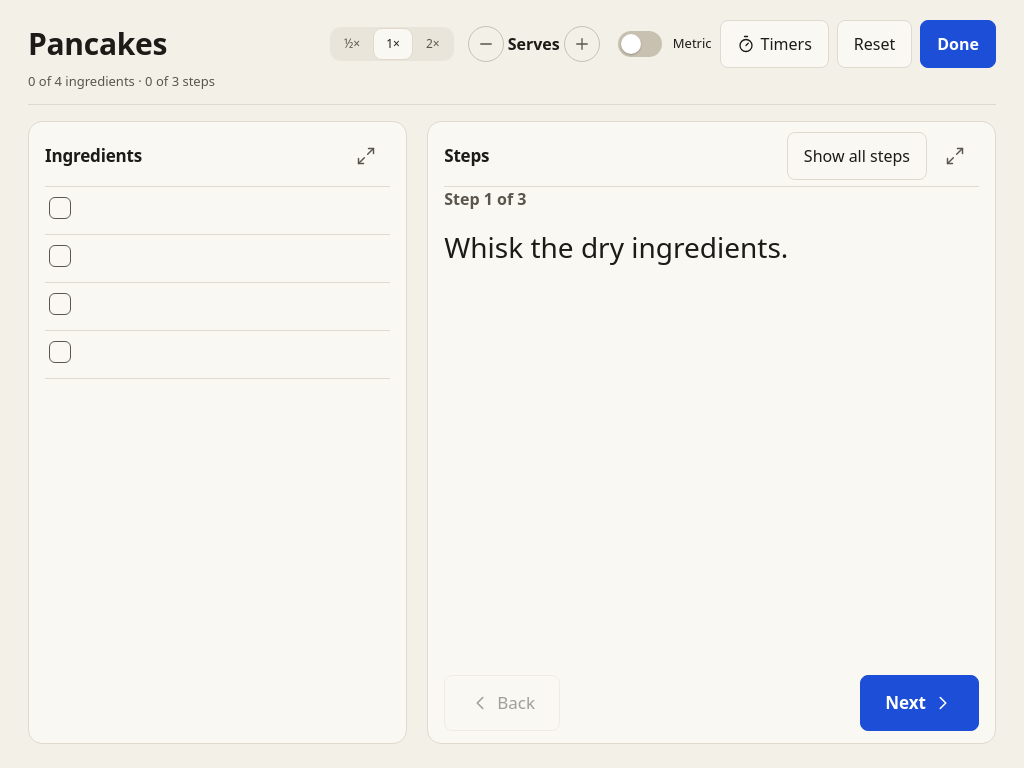
Test case: CookingView › adds no timer until you start one from the step
What coordinates should you click on to do the following:
click the button "Next"
I would click on:
 (920, 703)
Its box is [860,675,979,731].
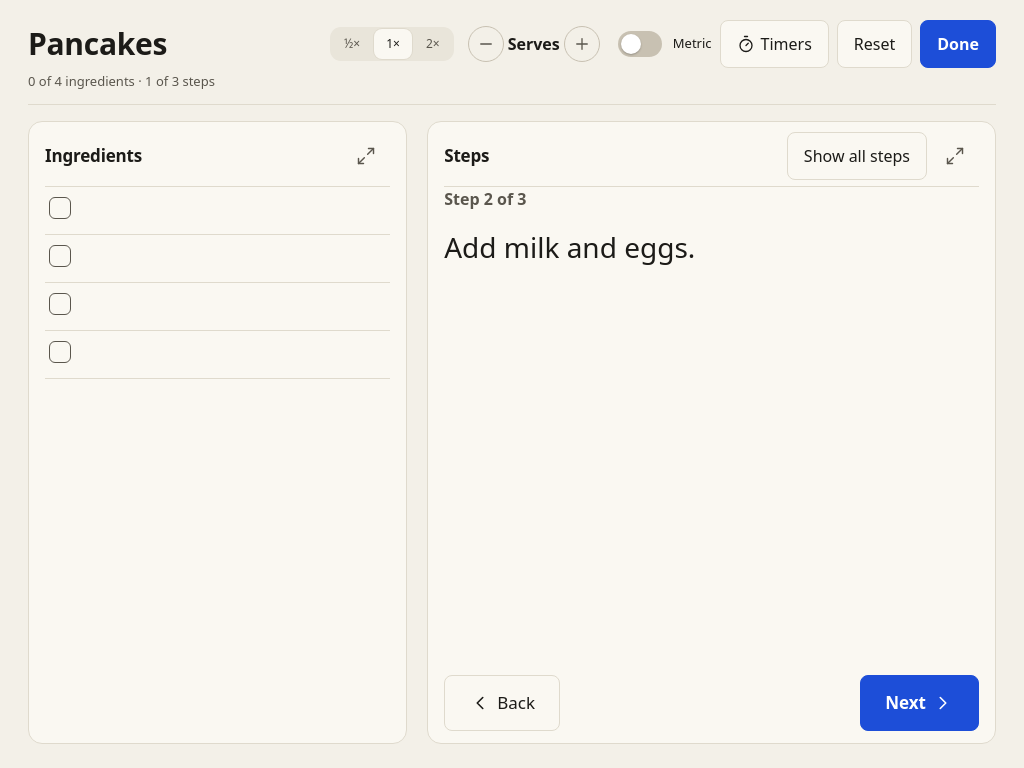
What coordinates should you click on to do the following:
click the button "Next"
I would click on:
 (920, 703)
Its box is [860,675,979,731].
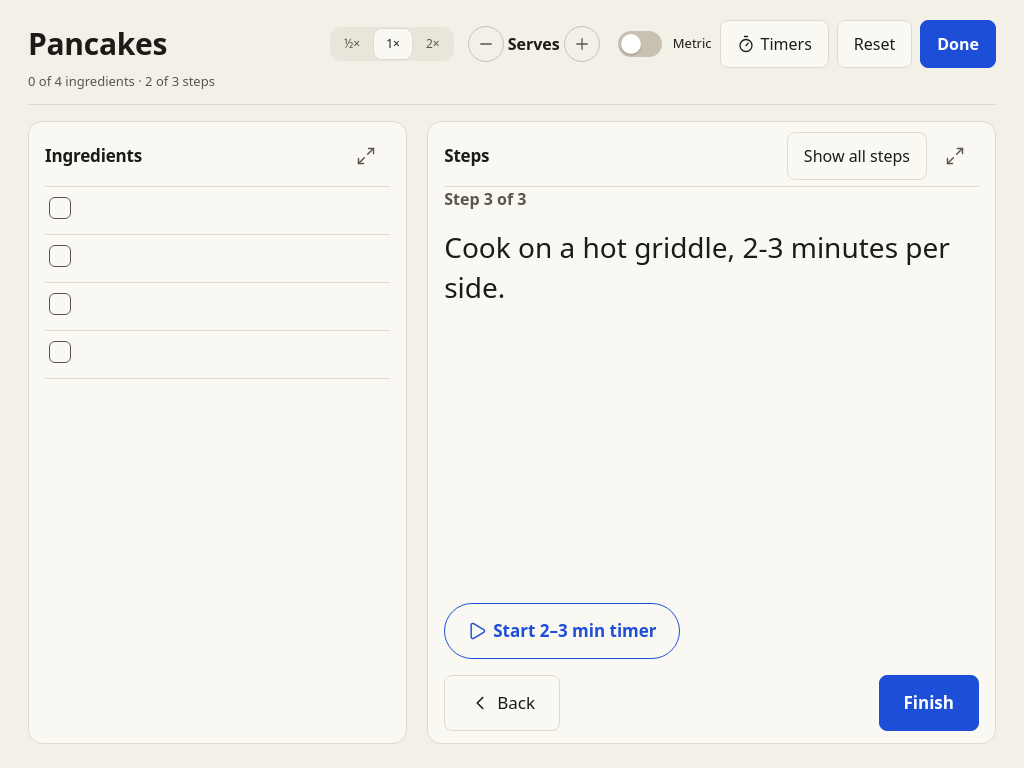
Expected: the button "Step 3: Cook on a" is not shown
What coordinates should you click on to do the following:
click the button "Start 2–3 min timer"
I would click on:
 (562, 631)
Its box is [444,603,680,659].
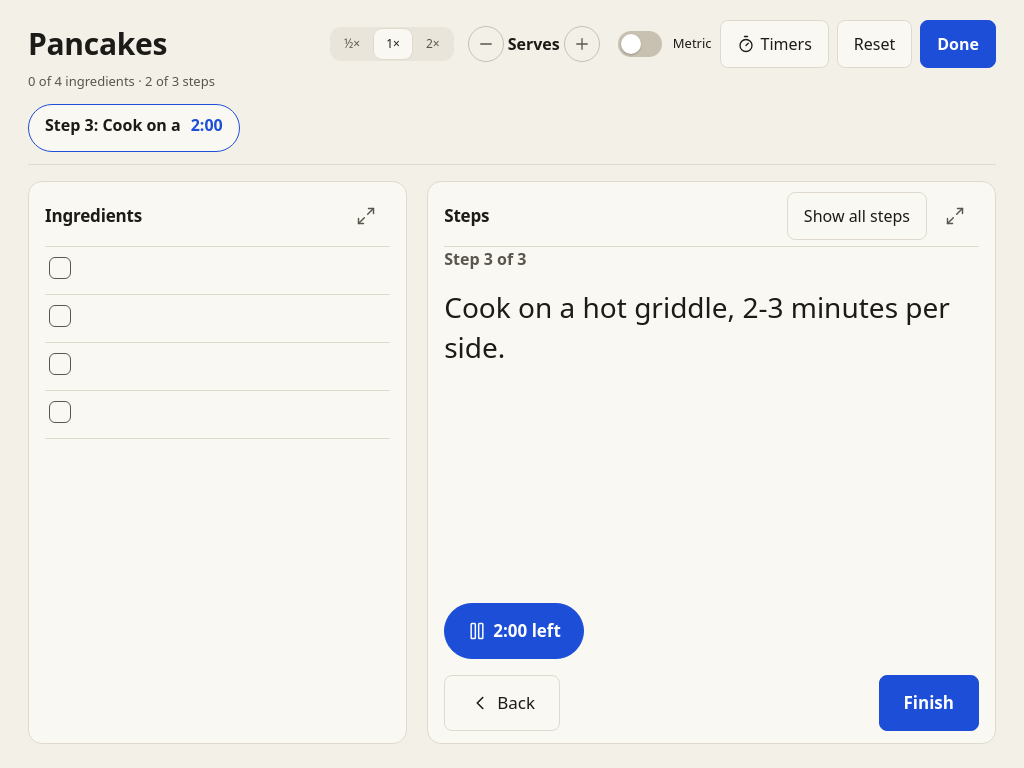
Expected: the button with aria-label "Pause timer, 2:00 left" is shown, [444,603,584,659]
Expected: the button "Step 3: Cook on a 2:00" is shown, [28,104,240,152]
